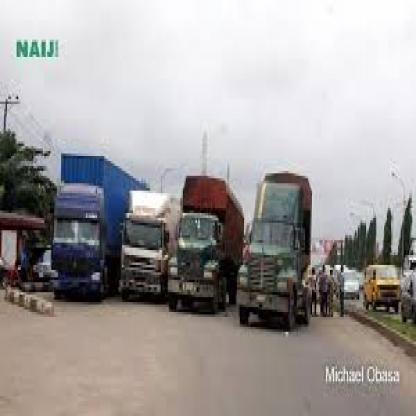car: (40, 129, 134, 301), (237, 144, 310, 342), (170, 167, 230, 326), (118, 163, 182, 309), (362, 254, 399, 327), (399, 220, 416, 336), (332, 252, 362, 304)
